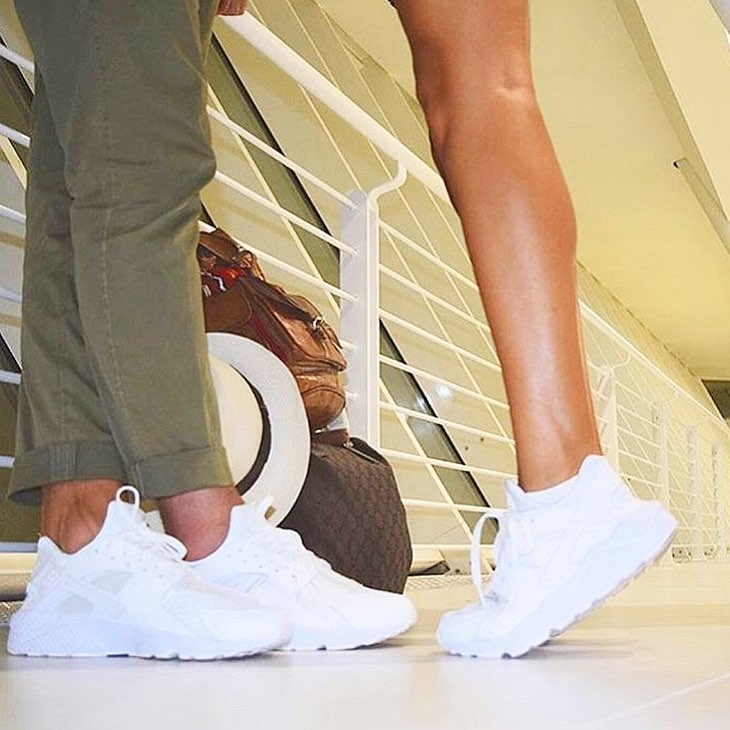sneaker: (1, 456, 294, 670), (135, 458, 428, 660)
